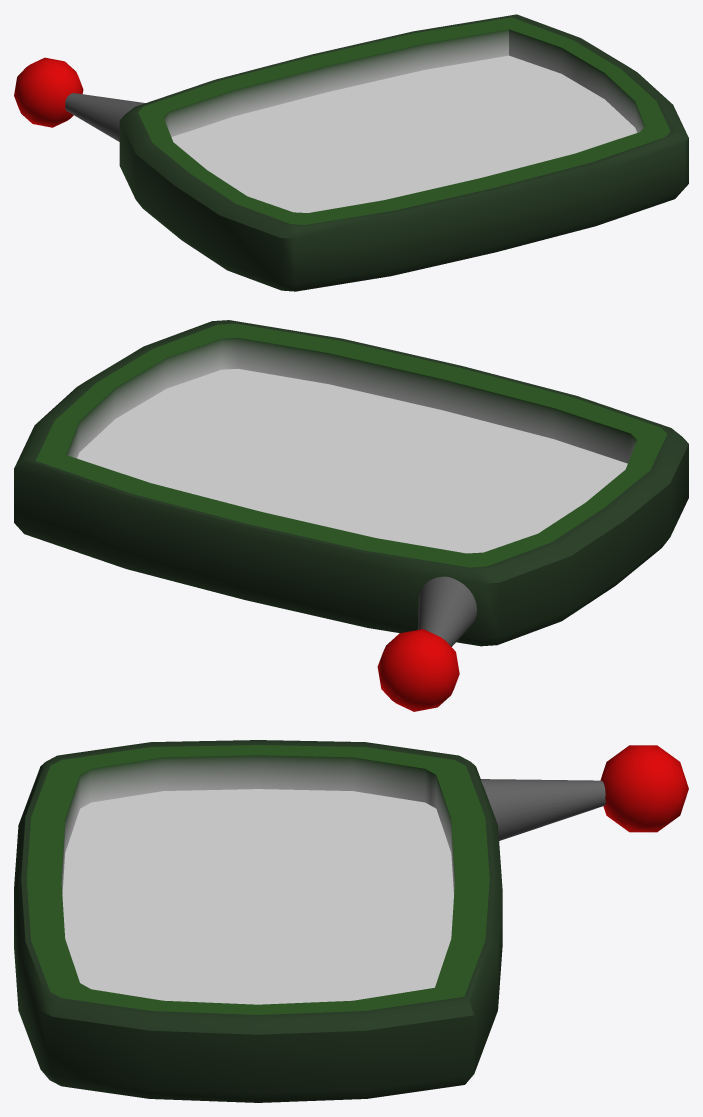
File: YouThink.fbx
3 renders of one model, top to bottom at view 1: azimuth 30°, elevation 25°; view 2: azimuth 150°, elevation 25°; view 3: azimuth 270°, elevation 25°, orthographic. The views are drawn at different scales.
Parts seen in each view (by area): view 1: Tablet; view 2: Tablet; view 3: Tablet.
Boxes of the visible parts, <box> form: Tablet: <box>14,14,688,291</box>; Tablet: <box>14,320,688,711</box>; Tablet: <box>14,740,688,1102</box>.
Bounding box in the file's own units: 160 × 21.57 × 156.
